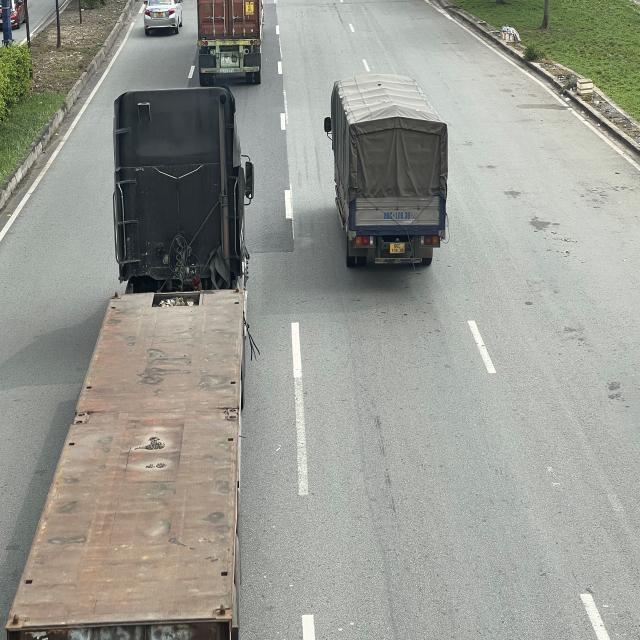car: (139, 0, 185, 34)
container: (6, 88, 254, 640), (196, 0, 264, 85)
truck: (322, 75, 450, 269)
